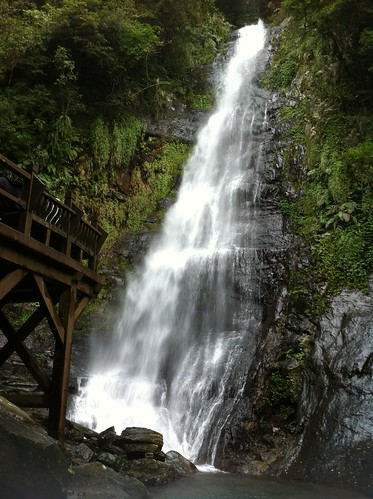wufengciWaterfall: (114, 16, 331, 446)
